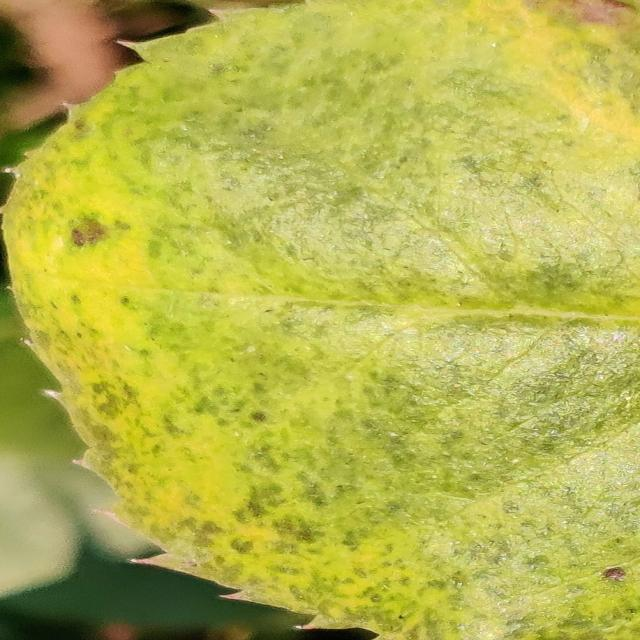Black_spot: (66, 212, 108, 250)
Rose: (1, 0, 638, 638)
